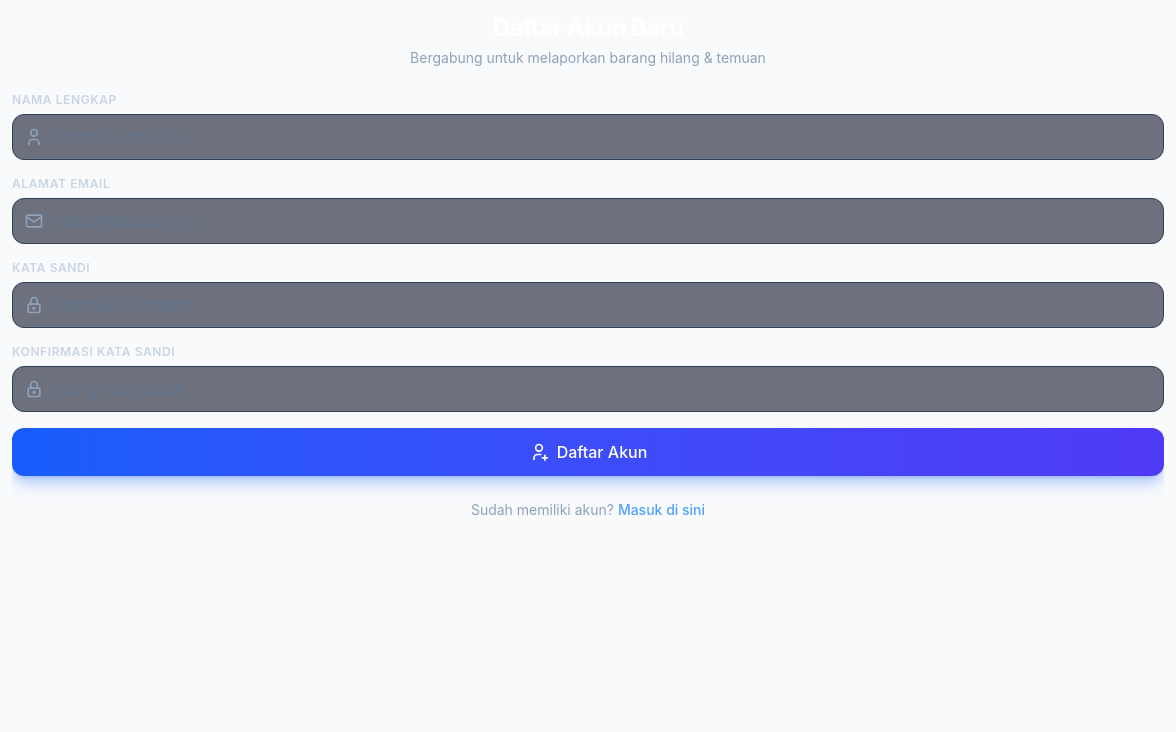
RegisterPage › should validate required fields on submit
The width and height of the screenshot is (1176, 732).
Click the button "Daftar Akun": point(588, 452) [12,428,1164,476]
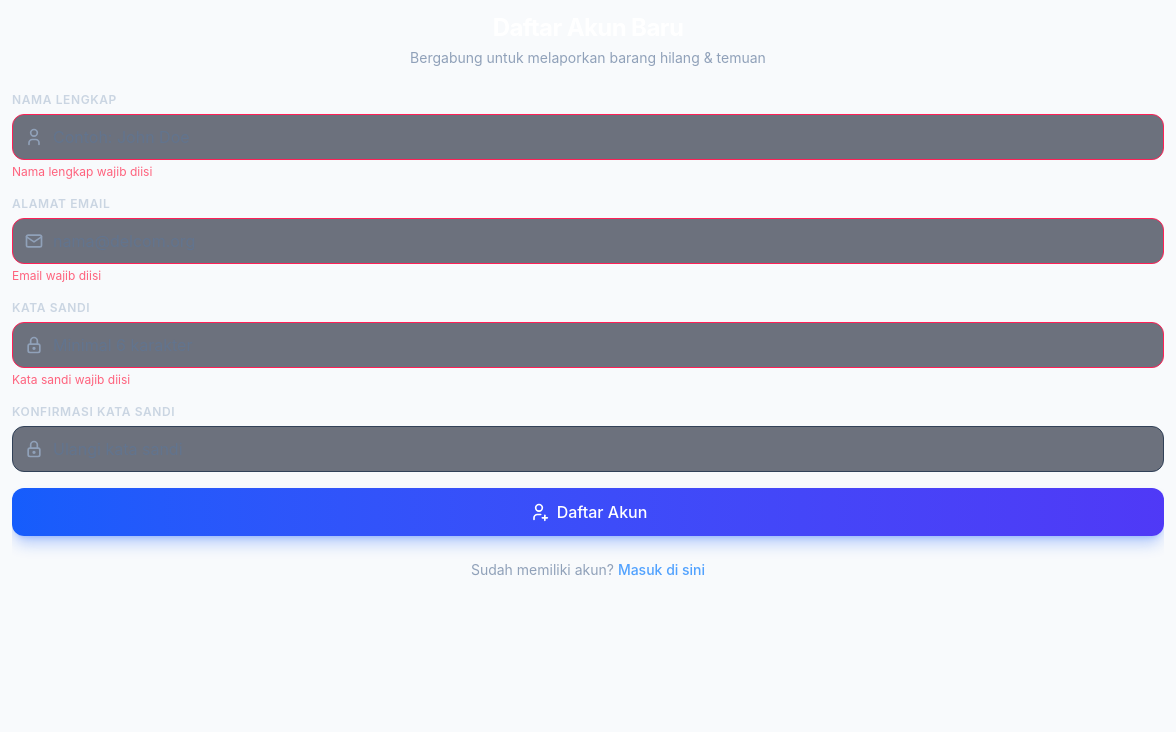
Now the text "Nama lengkap wajib diisi" is shown, box [12,164,152,179]
Now the text "Email wajib diisi" is shown, box [12,268,101,283]
